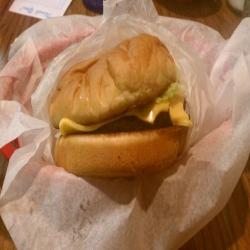burger: (35, 39, 209, 188)
